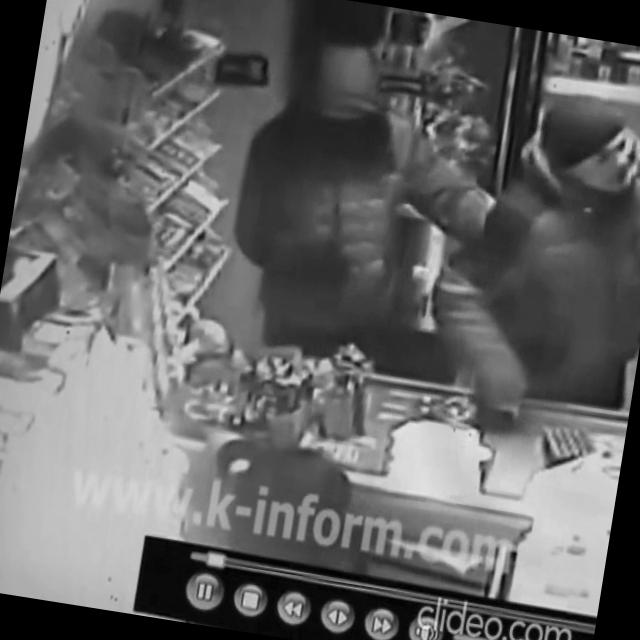gun: (296, 230, 368, 302)
person: (415, 73, 640, 437)
person with a gun: (217, 25, 554, 396)
